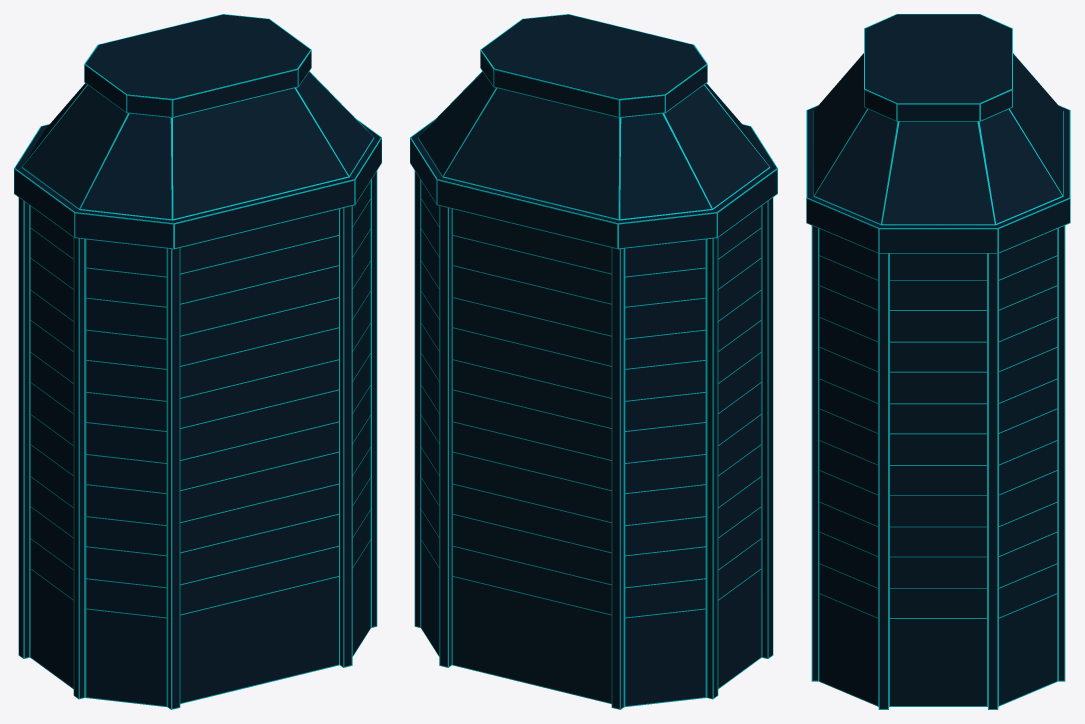
3 views of the same model, side by side, from view 1: azimuth 30°, elevation 25°; view 2: azimuth 150°, elevation 25°; view 3: azimuth 270°, elevation 25° (orthographic).
Parts seen in each view (by area): view 1: BuildingB01; view 2: BuildingB01; view 3: BuildingB01.
Boxes of the visible parts, bbox=[...] form: BuildingB01: bbox=[14, 14, 381, 709]; BuildingB01: bbox=[410, 14, 777, 709]; BuildingB01: bbox=[806, 14, 1070, 709].
Size of the model in its own units: 64.91 by 118 by 48.72.
1 material, 1 textured.
